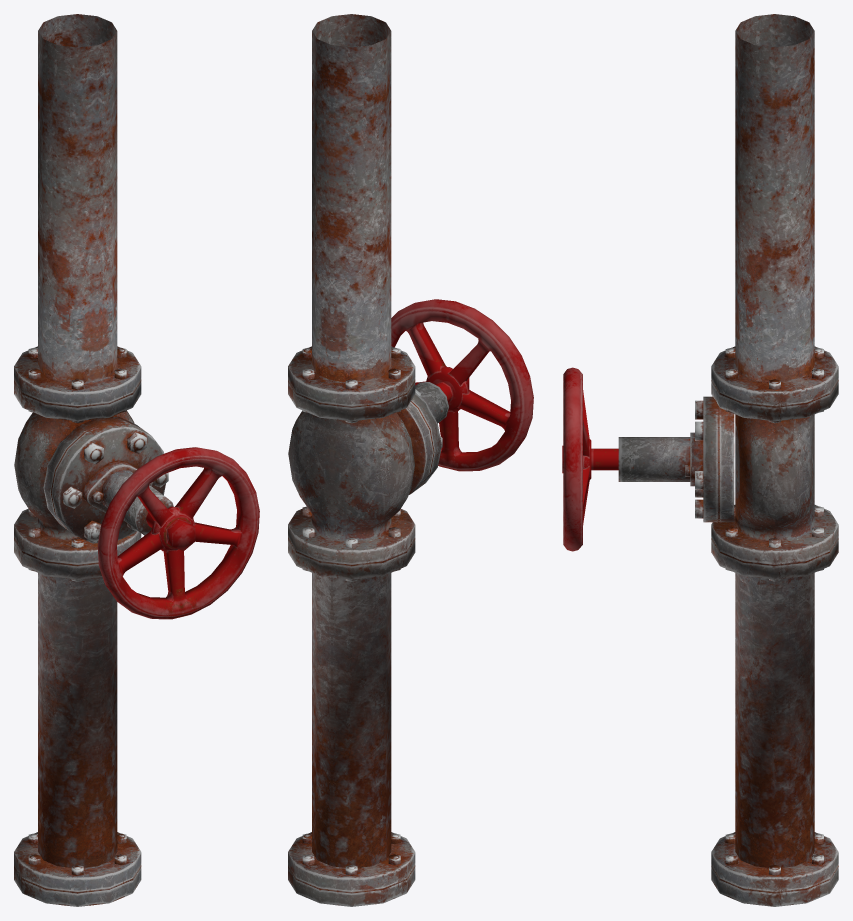
The model's file is valve.dae.
3 views of the same model, side by side, from view 1: azimuth 30°, elevation 25°; view 2: azimuth 150°, elevation 25°; view 3: azimuth 270°, elevation 25° (orthographic).
Visible parts, largest first — view 1: Cylinder007; view 2: Cylinder007; view 3: Cylinder007.
Part boxes in pixels (x1,y1,x2,y2): Cylinder007: (14,14,259,906); Cylinder007: (288,14,533,906); Cylinder007: (562,14,838,906).
Bounding box in the file's own units: 61.09 × 91.67 × 311.
Materials: 1 (1 with a texture image).
